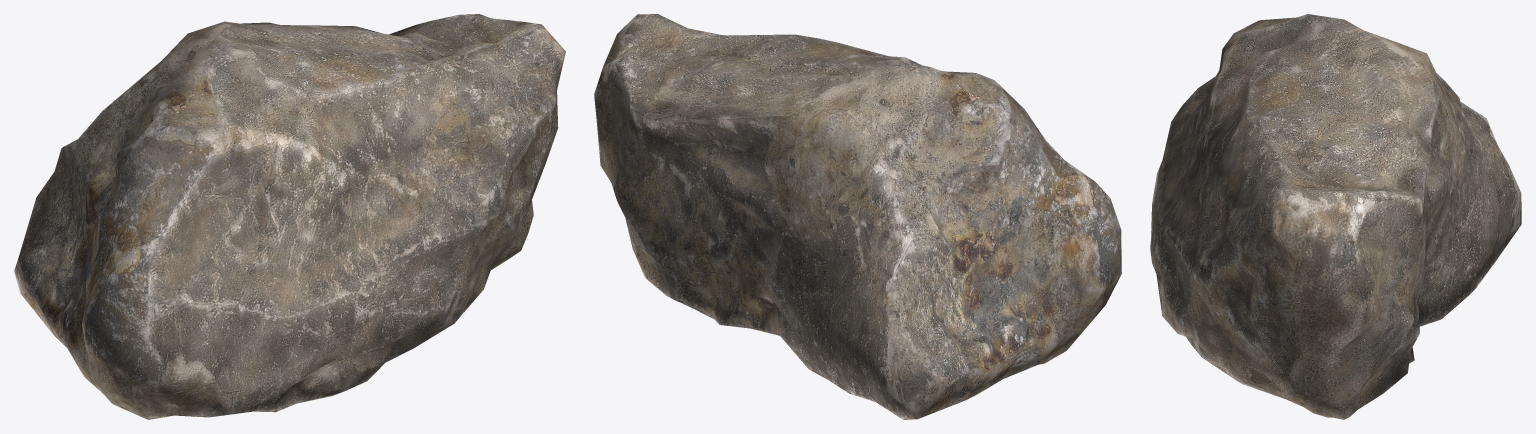
Rendered from Piedra.glb.
3 views of the same model, side by side, from view 1: azimuth 30°, elevation 25°; view 2: azimuth 150°, elevation 25°; view 3: azimuth 270°, elevation 25° (orthographic). The views are drawn at different scales.
Parts seen in each view (by area): view 1: rock2; view 2: rock2; view 3: rock2.
Part boxes in pixels (x1=…): rock2: x1=14, y1=14, x2=565, y2=419; rock2: x1=594, y1=14, x2=1121, y2=419; rock2: x1=1150, y1=14, x2=1521, y2=419.
Bounding box in the file's own units: 18.58 × 10.9 × 12.5.
Materials: 1 (1 with a texture image).
